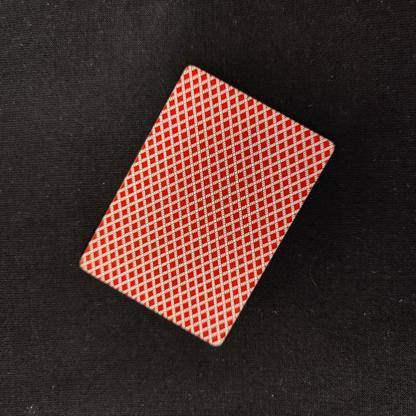card: (67, 51, 344, 365)
